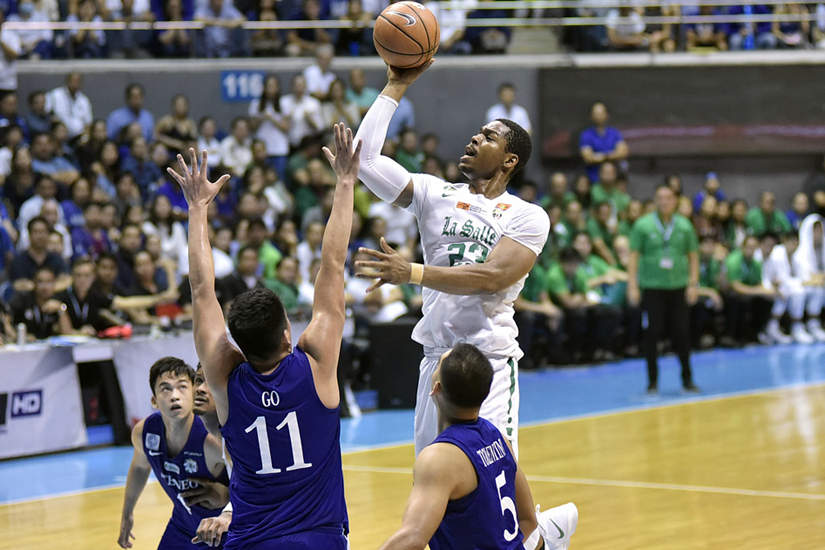ball: (372, 2, 442, 68)
player: (354, 70, 575, 542), (172, 124, 369, 550), (381, 344, 551, 550), (119, 359, 232, 549)
